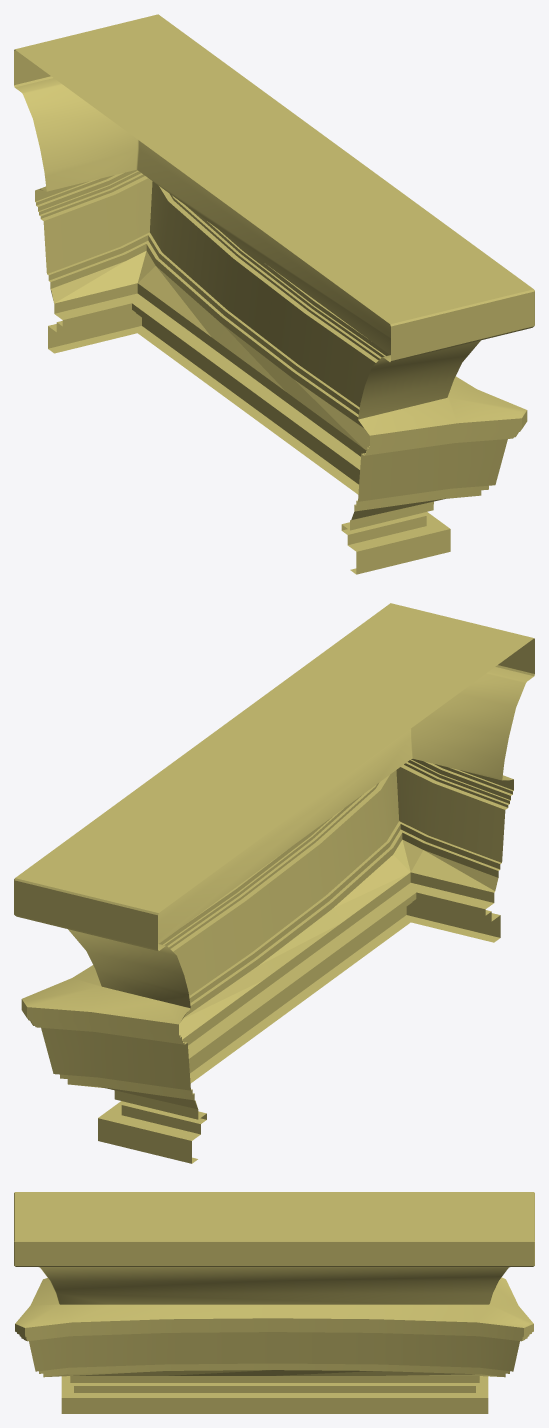
Rendered from gold_228.fbx.
The picture shows the model from 3 angles, top to bottom: view 1: azimuth 30°, elevation 25°; view 2: azimuth 150°, elevation 25°; view 3: azimuth 270°, elevation 25°; orthographic projection. The views are drawn at different scales.
Visible parts, largest first — view 1: gold_228; view 2: gold_228; view 3: gold_228.
Boxes of the visible parts, bbox=[...] form: gold_228: bbox=[14, 14, 534, 574]; gold_228: bbox=[14, 603, 534, 1163]; gold_228: bbox=[14, 1192, 534, 1413].
Bounding box in the file's own units: 4.45 × 8.08 × 20.06.
